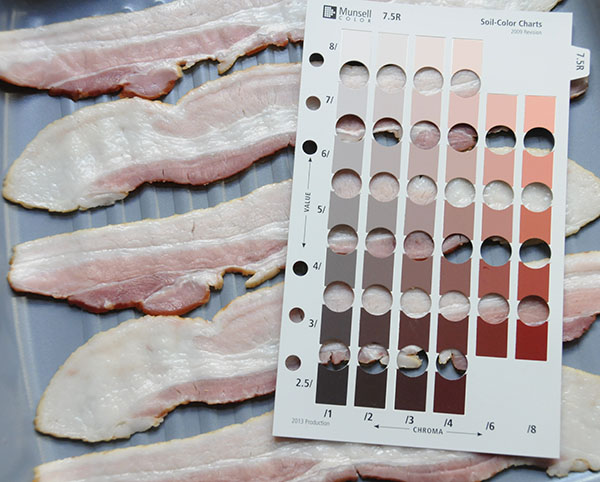bacon: (11, 13, 578, 449)
